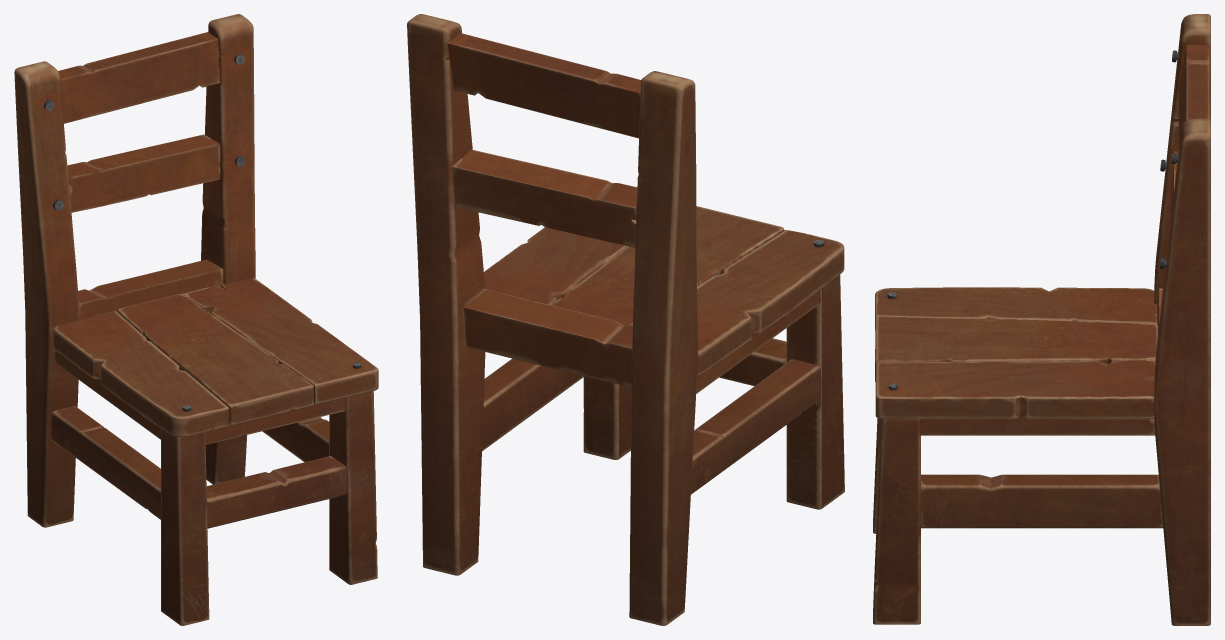
The model's file is Chair.fbx.
The picture shows the model from 3 angles, left to right: view 1: azimuth 30°, elevation 25°; view 2: azimuth 150°, elevation 25°; view 3: azimuth 270°, elevation 25°; orthographic projection. The views are drawn at different scales.
Visible parts, largest first — view 1: Chair; view 2: Chair; view 3: Chair.
Part boxes in pixels (x1,y1,x2,y2): Chair: (14,14,378,625); Chair: (407,14,844,625); Chair: (873,14,1210,625).
Bounding box in the file's own units: 0.5537 × 1.04 × 0.6412.
